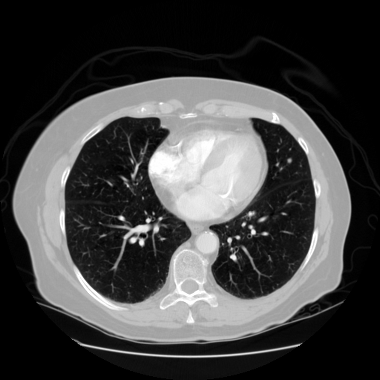nodule: (286, 157, 292, 163)
